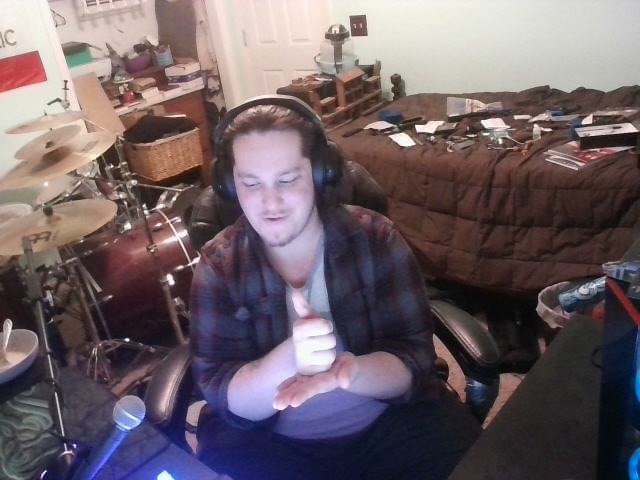help: (246, 284, 368, 425)
